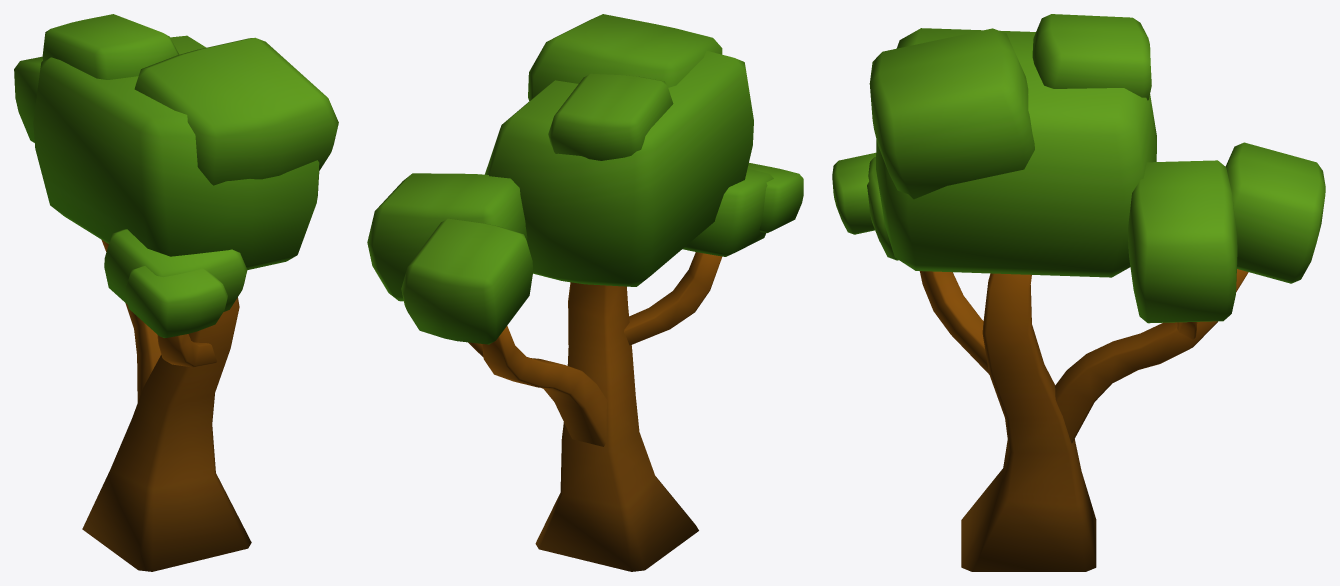
File: Tree_3_4.glb
3 views of the same model, side by side, from view 1: azimuth 30°, elevation 25°; view 2: azimuth 150°, elevation 25°; view 3: azimuth 270°, elevation 25° (orthographic). The views are drawn at different scales.
Visible parts, largest first — view 1: Tree_3_4; view 2: Tree_3_4; view 3: Tree_3_4.
Boxes of the visible parts, x1,y1,x2,y2 form: Tree_3_4: [14, 14, 338, 571]; Tree_3_4: [367, 14, 803, 571]; Tree_3_4: [832, 14, 1325, 571].
Bounding box in the file's own units: 2.41 × 4.13 × 3.68.
1 material, 1 textured.
